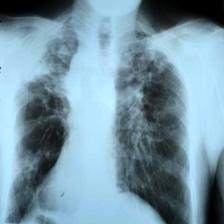tuberculosis: (6, 5, 199, 224)
